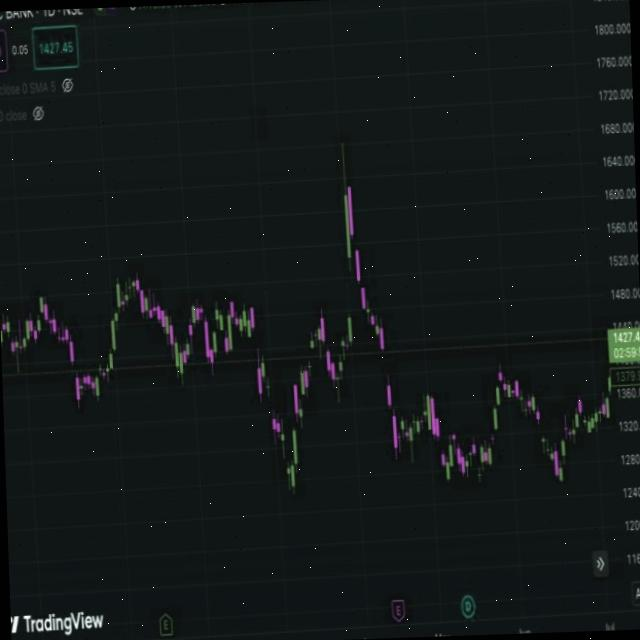Gap Down: (348, 188, 360, 282), (378, 330, 392, 406), (250, 308, 262, 396), (262, 368, 275, 432), (319, 318, 330, 372), (356, 250, 366, 308), (436, 418, 445, 463), (282, 432, 290, 476), (537, 412, 545, 444)
Gap Up: (341, 194, 353, 338), (289, 383, 301, 459), (487, 409, 498, 464), (302, 340, 314, 388), (296, 371, 304, 416)
